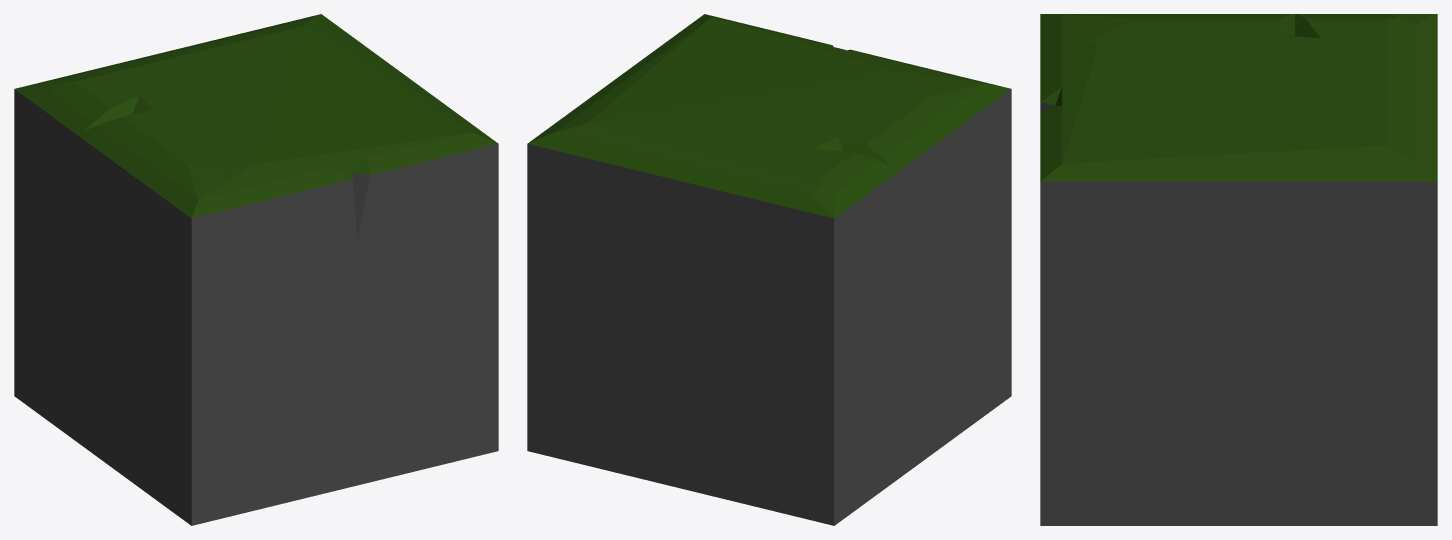
The model's file is Floor crack 2.fbx.
The picture shows the model from 3 angles, left to right: view 1: azimuth 30°, elevation 25°; view 2: azimuth 150°, elevation 25°; view 3: azimuth 270°, elevation 25°; orthographic projection. The views are drawn at different scales.
Parts seen in each view (by area): view 1: Floor Crack 1; view 2: Floor Crack 1; view 3: Floor Crack 1.
Boxes of the visible parts, left/top/right/bottom form: Floor Crack 1: left=14, top=14, right=498, bottom=525; Floor Crack 1: left=527, top=14, right=1011, bottom=525; Floor Crack 1: left=1040, top=14, right=1437, bottom=525.
Bounding box in the file's own units: 100 × 100 × 100.
